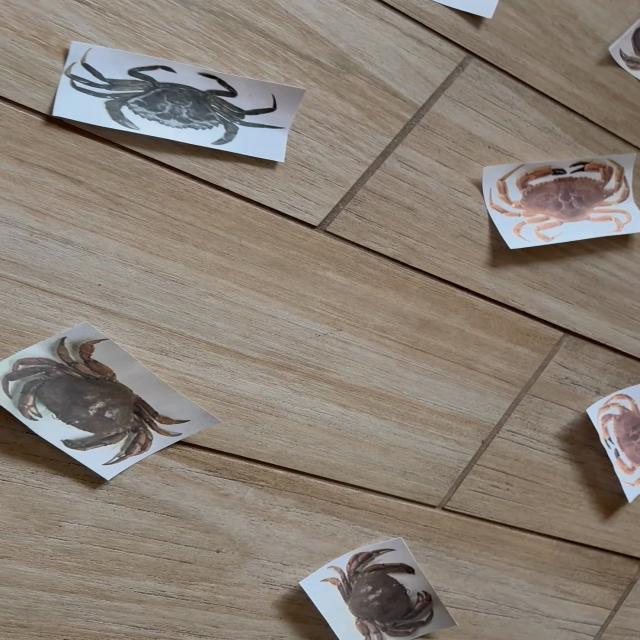egc: (65, 51, 284, 145)
